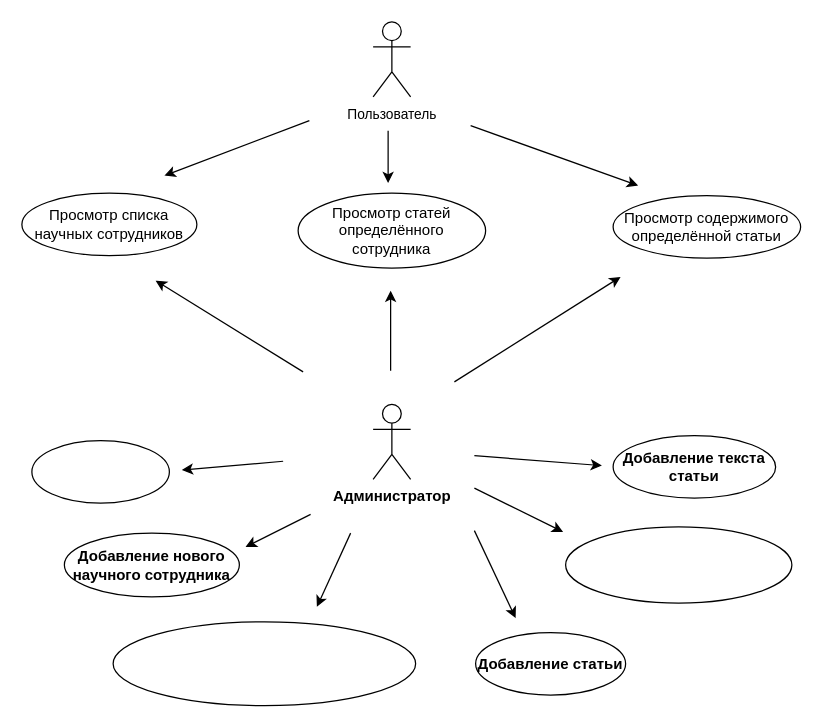
Some shapes in this 823 by 728 pixel diagram are drawn without their labels. Each missing label, with the centre of its shape:
Авторизация: pixel 100 471
Определения наименования статьи: pixel 678 564
Удаление научного сотрудника из списка( автоматически базы данных): pixel 264 663
